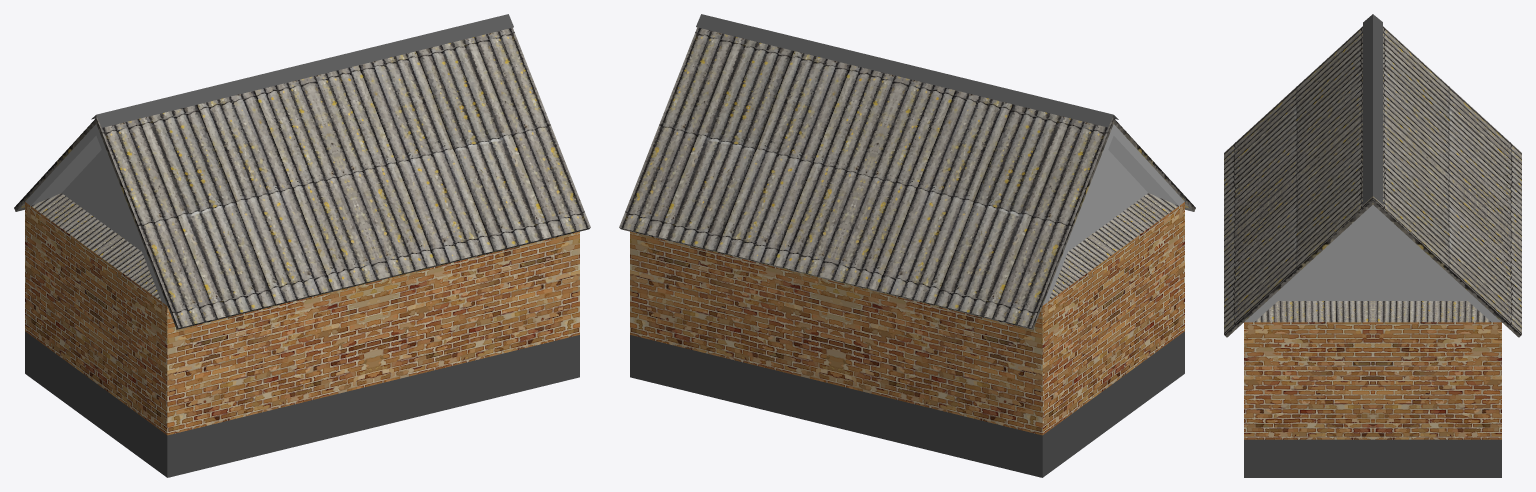
The model's file is house.fbx.
3 views of the same model, side by side, from view 1: azimuth 30°, elevation 25°; view 2: azimuth 150°, elevation 25°; view 3: azimuth 270°, elevation 25° (orthographic). The views are drawn at different scales.
Parts seen in each view (by area): view 1: House; view 2: House; view 3: House.
Boxes of the visible parts, x1,y1,x2,y2 form: House: [14, 14, 590, 477]; House: [619, 14, 1195, 477]; House: [1224, 14, 1521, 477].
Bounding box in the file's own units: 10.03 × 7.23 × 6.93.
